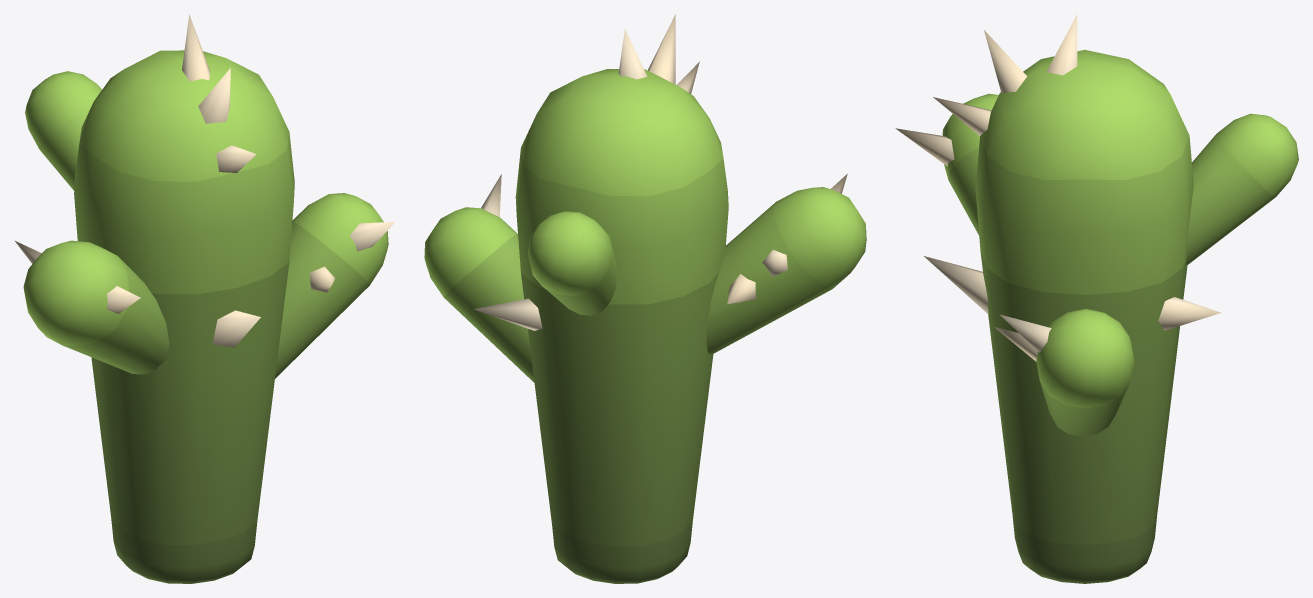
File: cactus_3.fbx
3 views of the same model, side by side, from view 1: azimuth 30°, elevation 25°; view 2: azimuth 150°, elevation 25°; view 3: azimuth 270°, elevation 25° (orthographic). The views are drawn at different scales.
Parts seen in each view (by area): view 1: cactus_3; view 2: cactus_3; view 3: cactus_3.
Boxes of the visible parts, left/top/right/bottom form: cactus_3: left=15, top=14, right=394, bottom=583; cactus_3: left=424, top=14, right=866, bottom=583; cactus_3: left=895, top=14, right=1298, bottom=583.
Size of the model in its own units: 128 by 168 by 112.
Materials: 1 (1 with a texture image).
